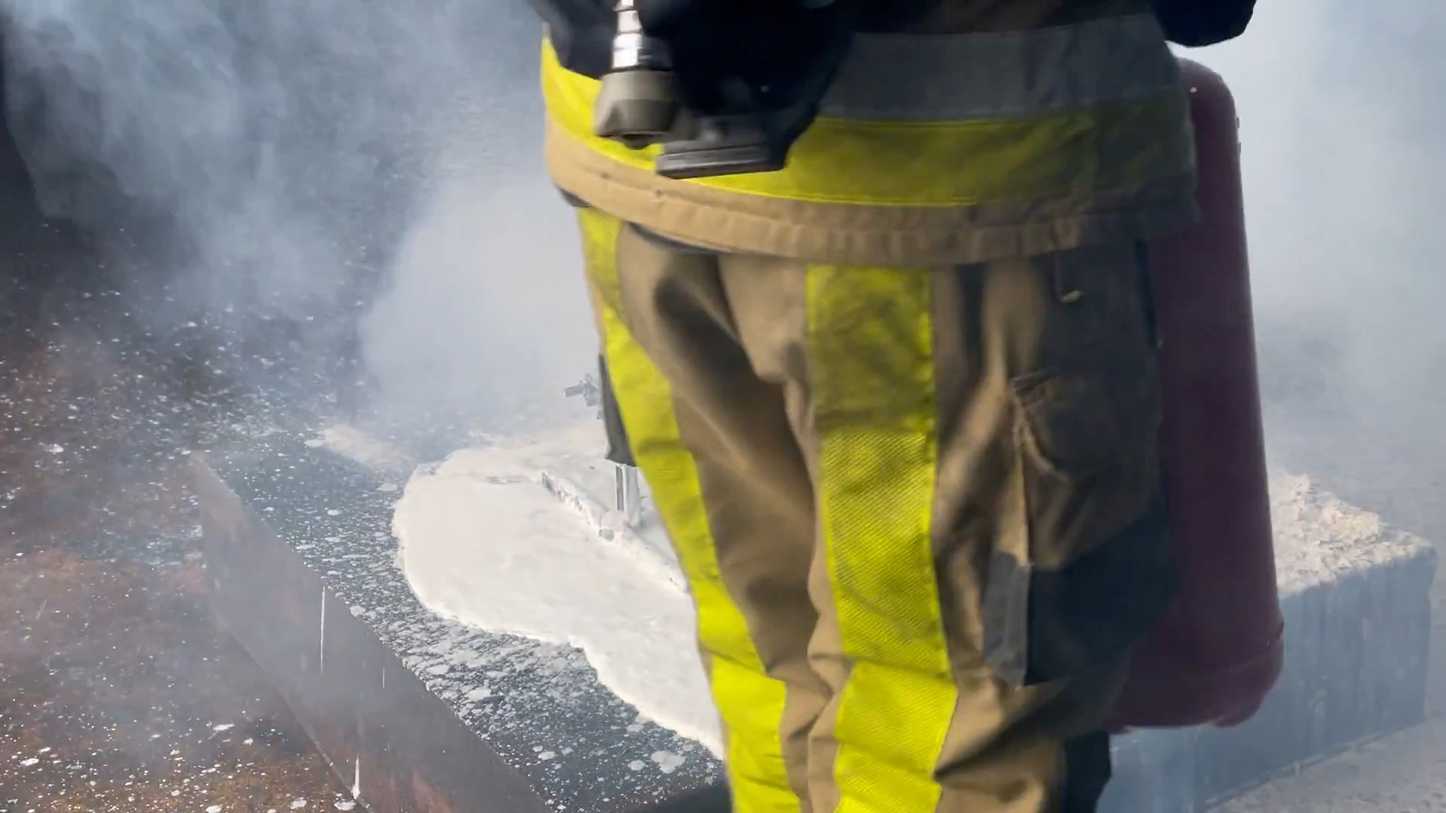smoke: (0, 0, 544, 436), (1238, 0, 1446, 496)
